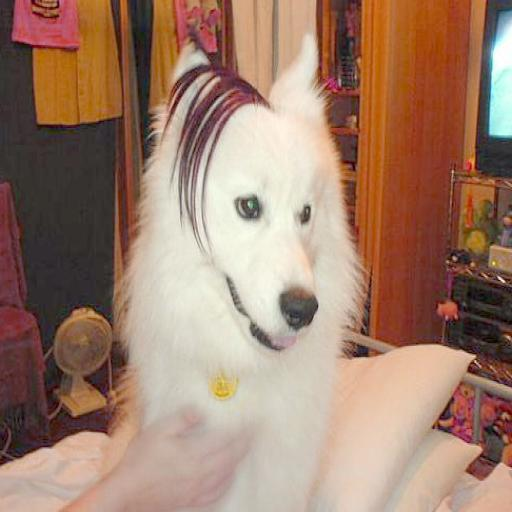dog_face: (177, 39, 330, 360)
